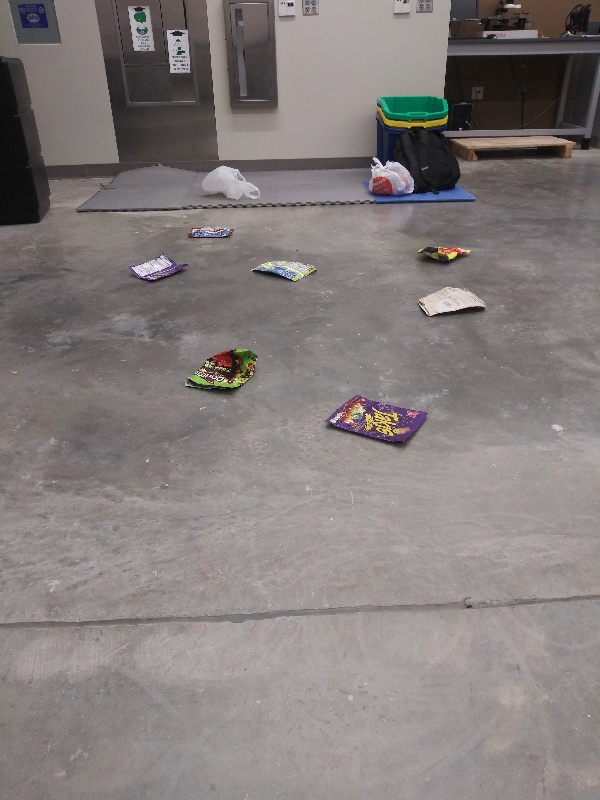bag: (319, 392, 432, 447), (182, 344, 261, 395), (415, 284, 490, 320), (249, 256, 318, 287), (129, 251, 188, 283), (415, 241, 476, 267), (188, 222, 238, 242)
